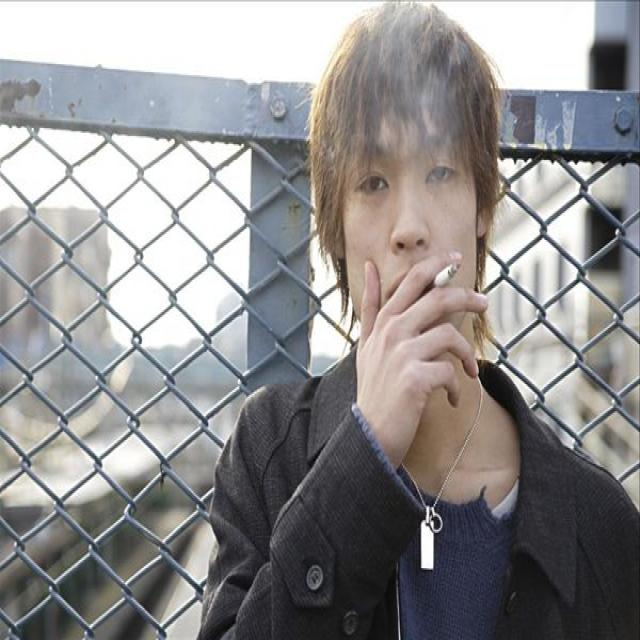smoking: (430, 262, 460, 292)
